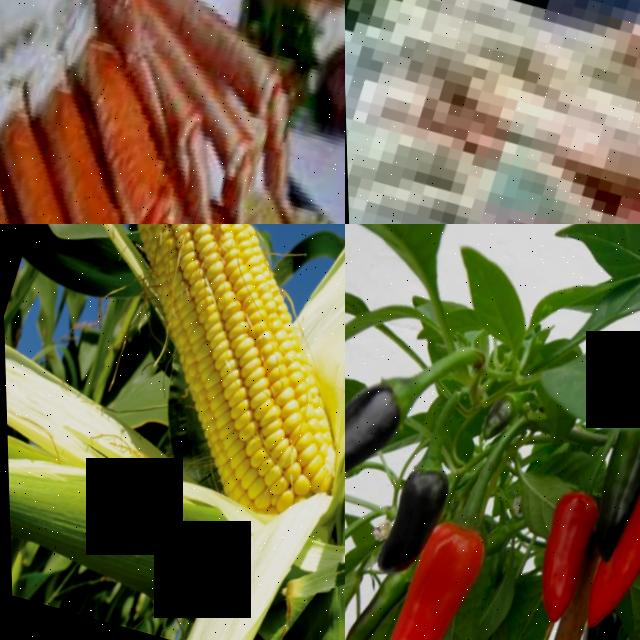chilli: (351, 507, 497, 640), (516, 479, 608, 635)
corn: (116, 224, 345, 531), (63, 224, 268, 290)
crab: (59, 0, 311, 224), (0, 74, 230, 224)
